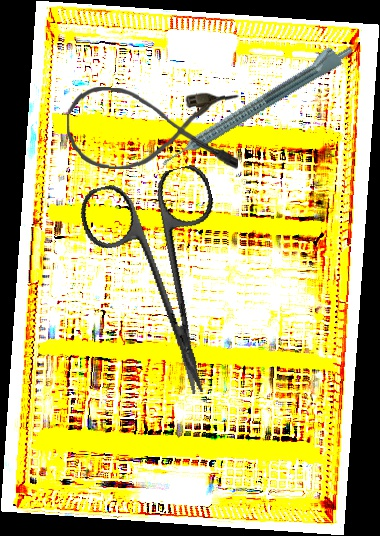Cannula: (65, 86, 241, 173)
Handpiece: (153, 34, 357, 171)
Iris Scissors: (75, 161, 258, 411)
